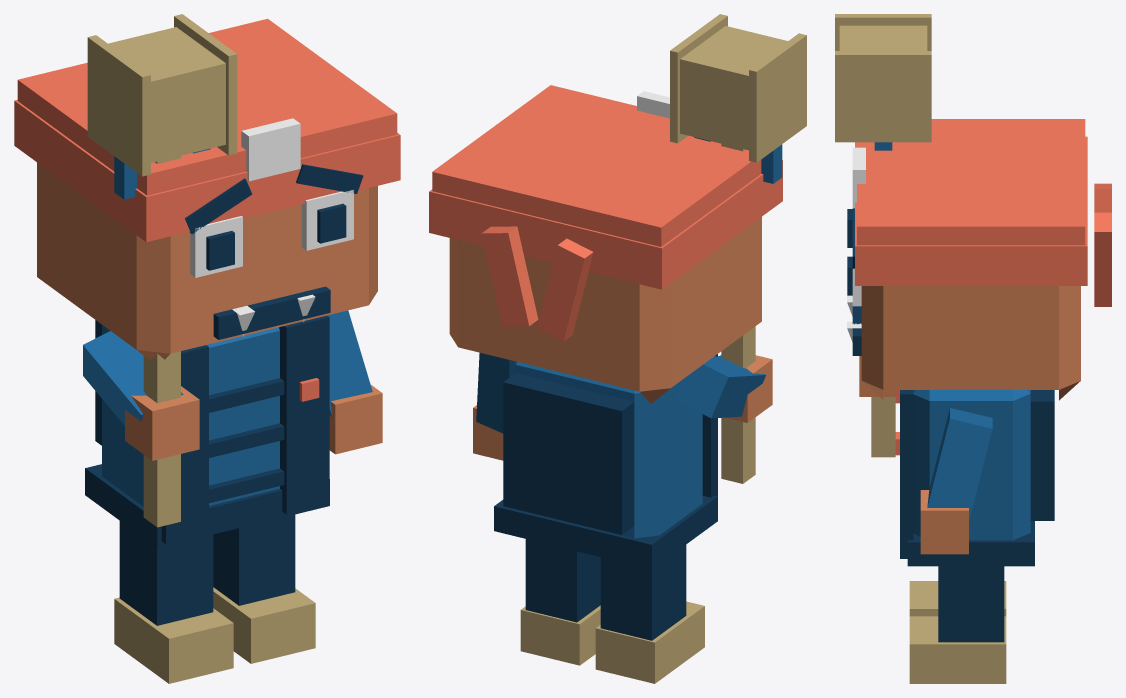
File: weakener_r15.glb
The picture shows the model from 3 angles, left to right: view 1: azimuth 30°, elevation 25°; view 2: azimuth 150°, elevation 25°; view 3: azimuth 270°, elevation 25°; orthographic projection. The views are drawn at different scales.
Parts seen in each view (by area): view 1: weakener_r15_mesh; view 2: weakener_r15_mesh; view 3: weakener_r15_mesh.
Boxes of the visible parts, <box> form: weakener_r15_mesh: <box>14,14,400,683</box>; weakener_r15_mesh: <box>429,14,806,683</box>; weakener_r15_mesh: <box>835,14,1111,683</box>.
Bounding box in the file's own units: 0.7393 × 1.6 × 0.6952.
Materials: 1 (1 with a texture image).
